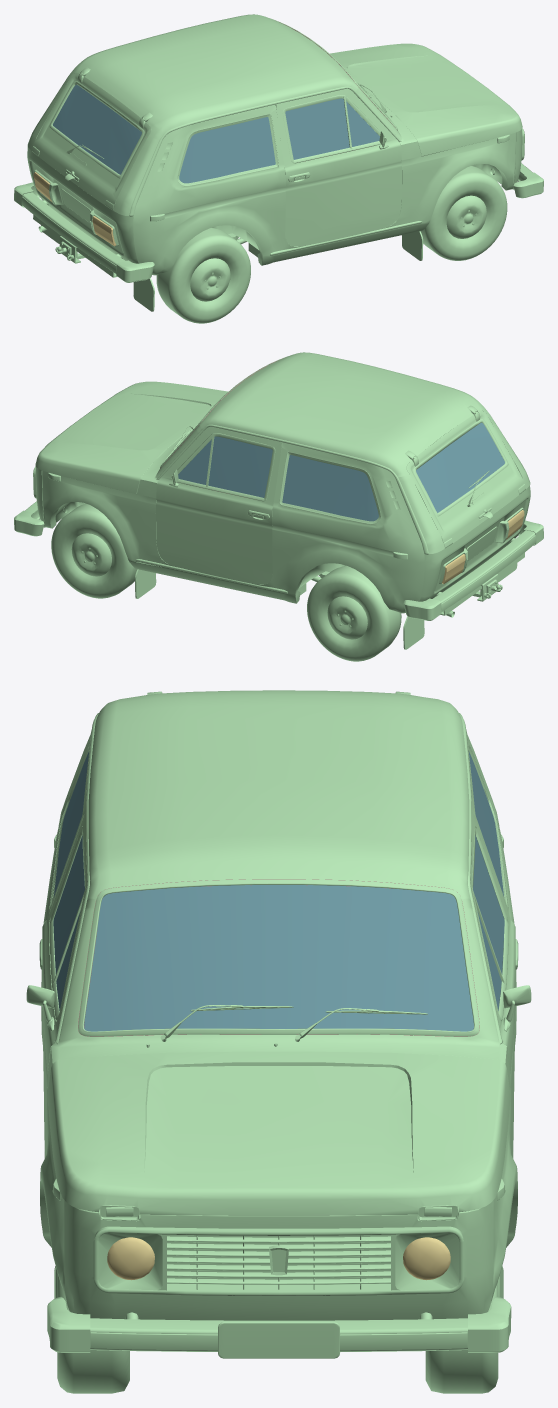
Rendered from SM_BoxCar.fbx.
The picture shows the model from 3 angles, top to bottom: view 1: azimuth 30°, elevation 25°; view 2: azimuth 150°, elevation 25°; view 3: azimuth 270°, elevation 25°; orthographic projection. The views are drawn at different scales.
Visible parts, largest first — view 1: body, door_R, trunk, wheel_Back_R, wheel_Front_R; view 2: body, door_L, trunk, wheel_Back_L, wheel_Front_L; view 3: body, door_R, door_L, wheel_Front_R, wheel_Front_L.
Part boxes in pixels (box(x1,y1,x2,y2)): body: box(14, 14, 543, 311); door_R: box(275, 88, 401, 246); trunk: box(32, 72, 151, 210); wheel_Back_R: box(156, 227, 250, 323); wheel_Front_R: box(420, 166, 507, 260); body: box(14, 352, 543, 649); door_L: box(156, 426, 282, 584); trunk: box(406, 410, 525, 548); wheel_Back_L: box(307, 565, 401, 661); wheel_Front_L: box(51, 503, 137, 598); body: box(40, 690, 517, 1358); door_R: box(26, 810, 87, 1157); door_L: box(470, 810, 531, 1157); wheel_Front_R: box(55, 1268, 129, 1393); wheel_Front_L: box(425, 1275, 499, 1393).
Bounding box in the file's own units: 383 × 179 × 193.
